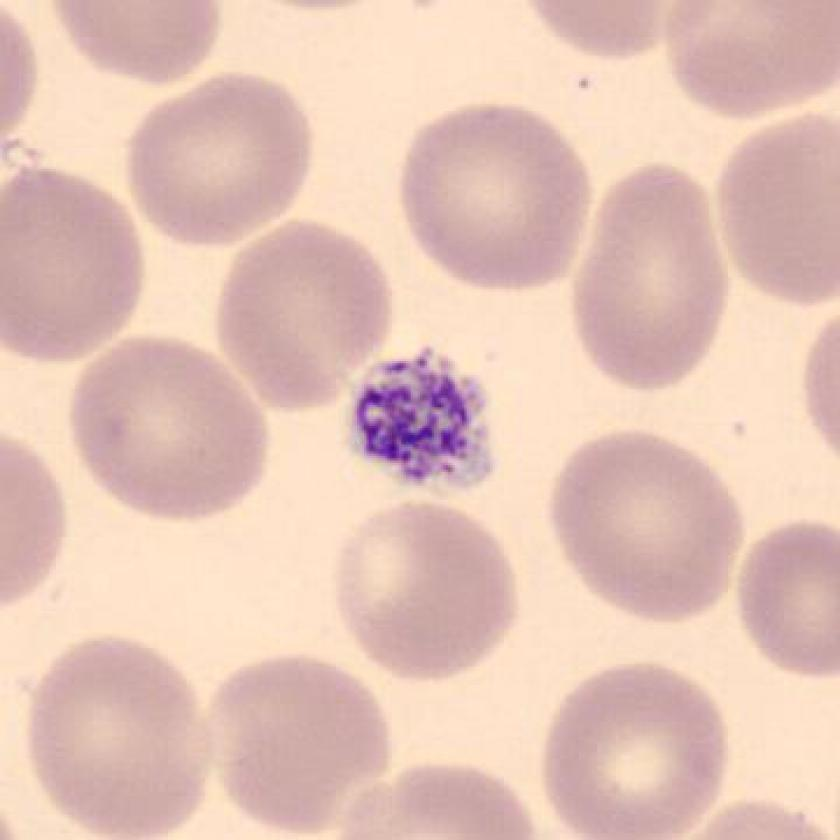platelets: (335, 334, 505, 501)
